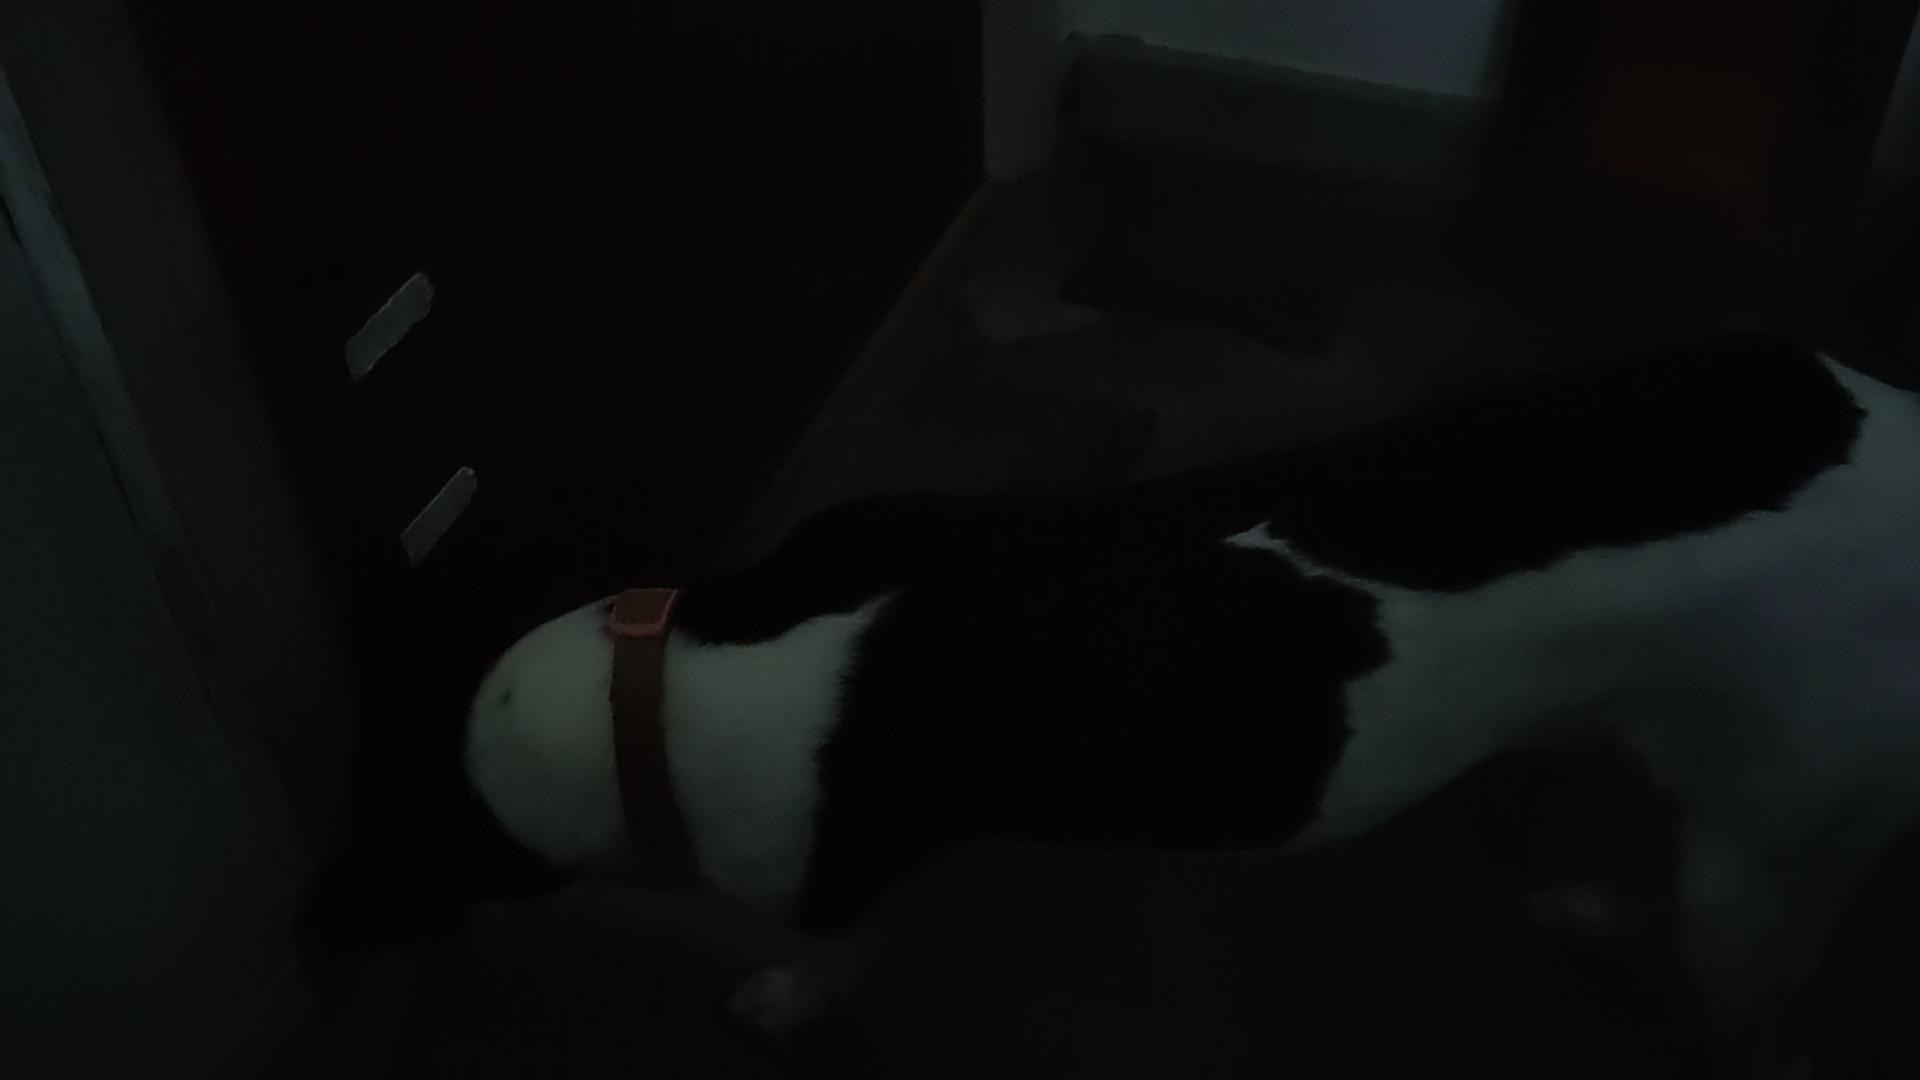Dog: (285, 306, 1919, 1079)
